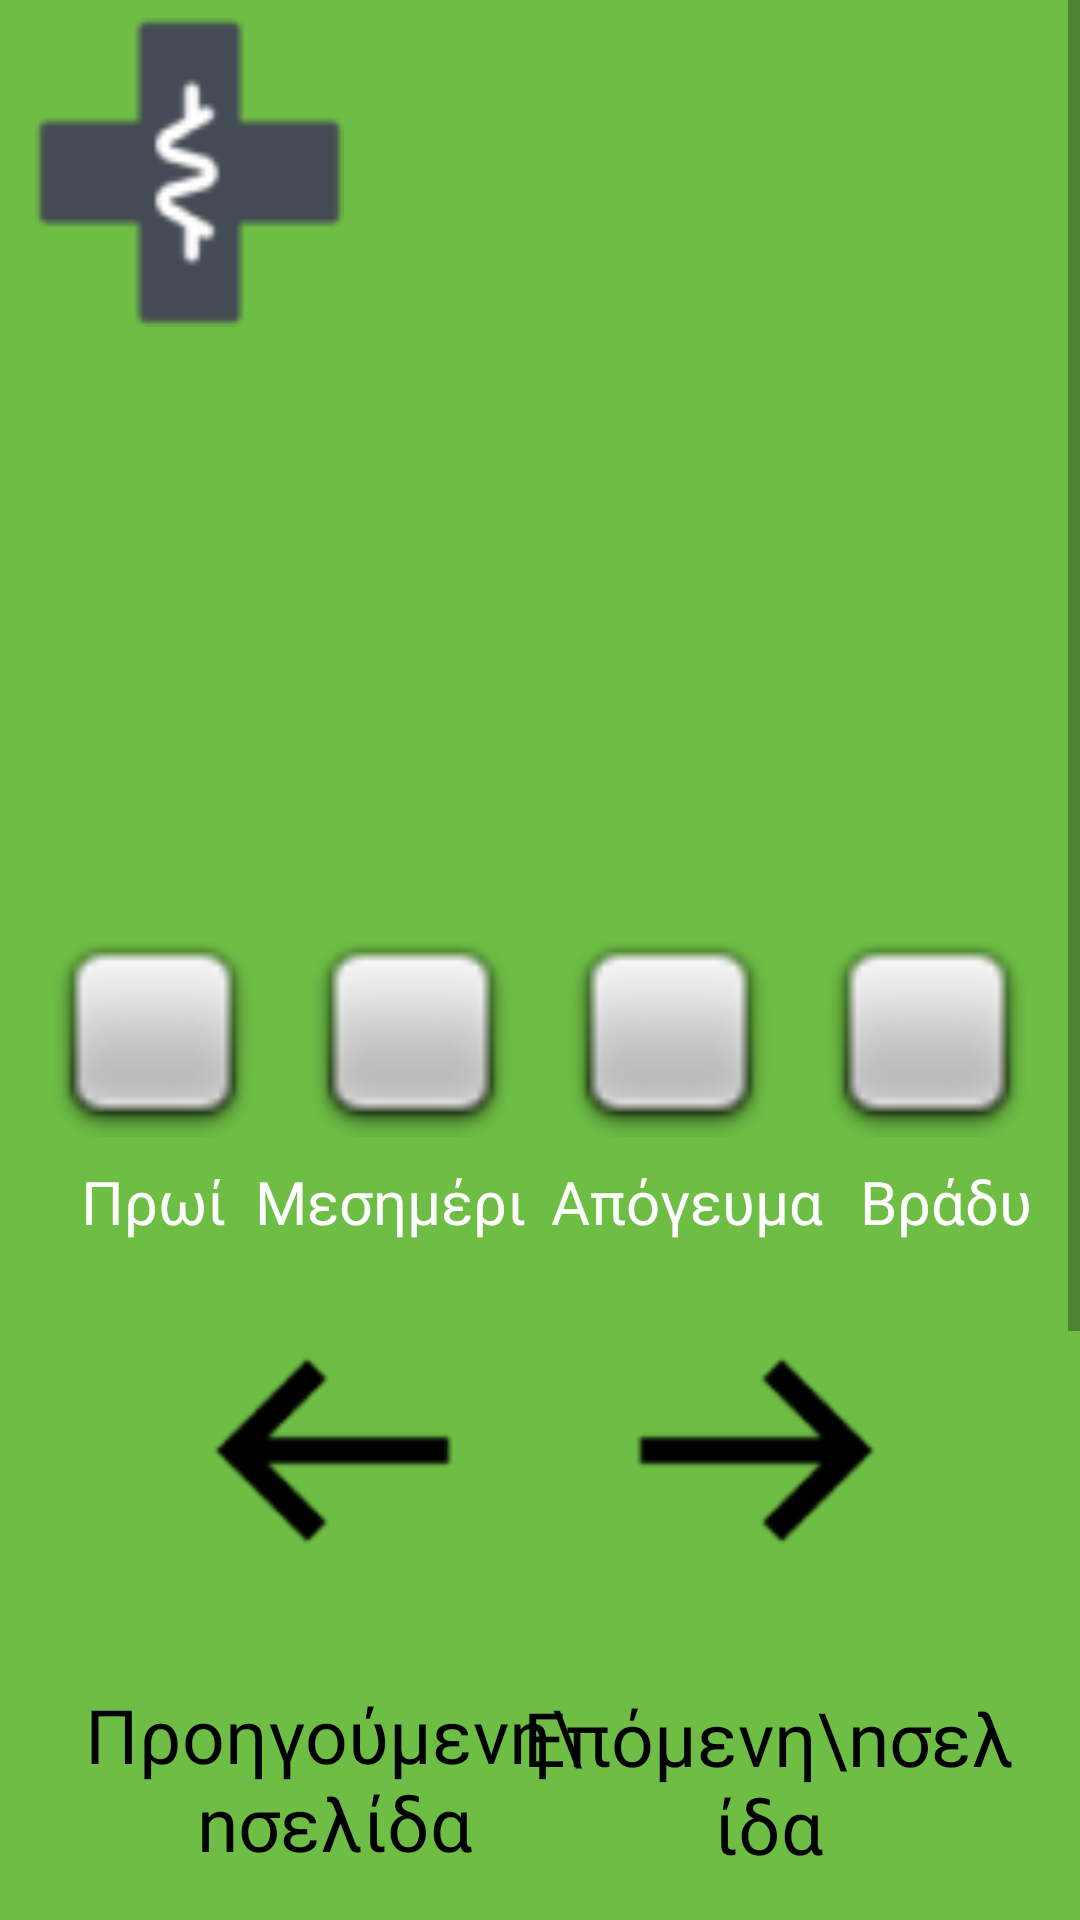

Icons on this 1080*1920 Android screen, each with its box as (x1, y1, x2, y2):
custom checkbox: (64, 948, 242, 1128), (322, 948, 500, 1128), (580, 948, 758, 1128), (838, 948, 1016, 1128)
hospital: (38, 21, 341, 324)
left: (215, 1358, 452, 1543)
right: (637, 1358, 874, 1543)
